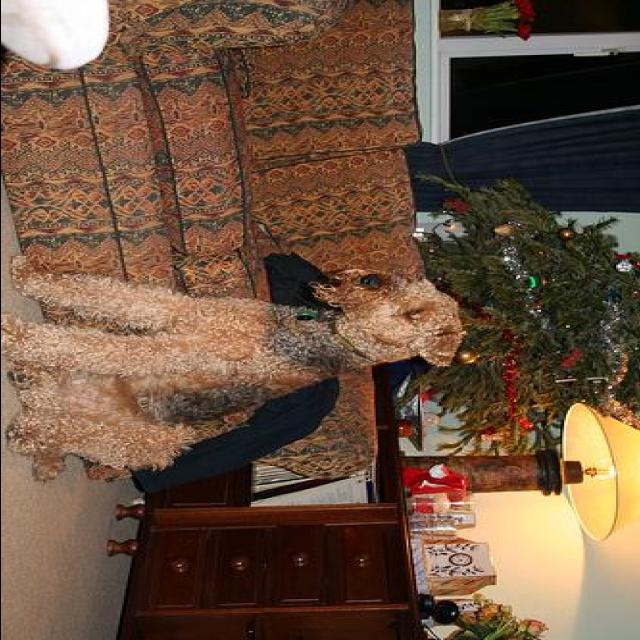airedale: (2, 252, 465, 482)
